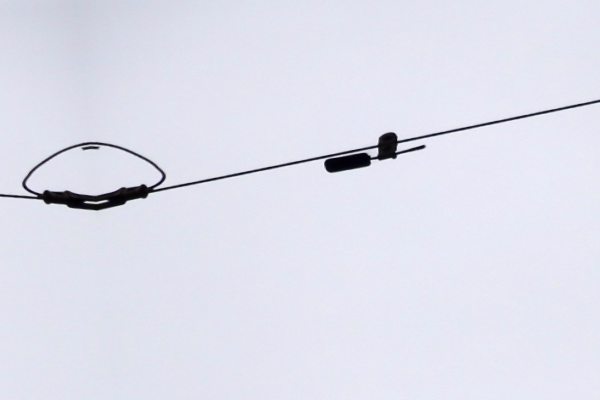damper_defect: (320, 130, 429, 175)
